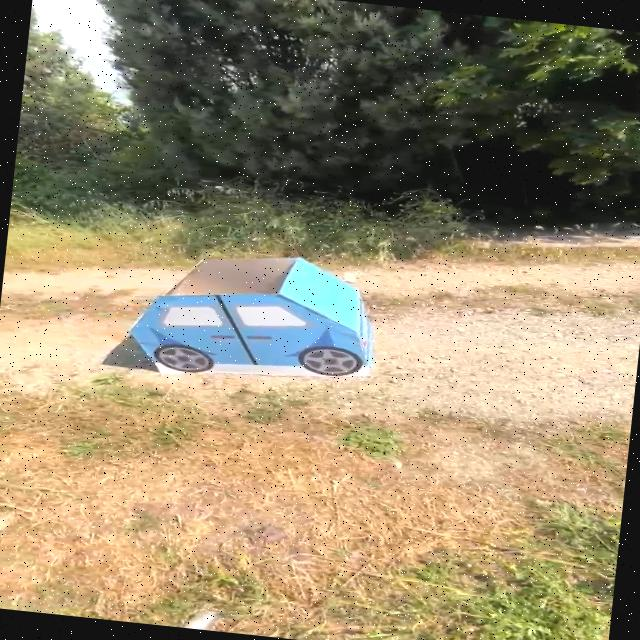blue_car: (106, 224, 397, 432)
